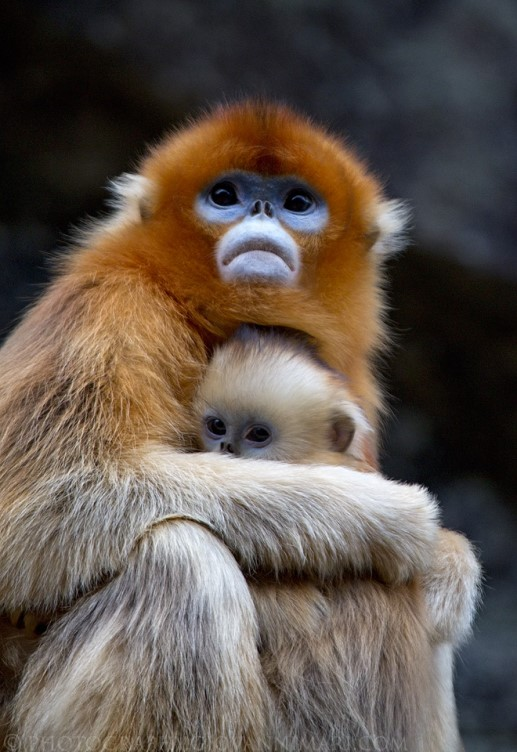GoldenSnub-Nosed: (3, 103, 465, 752), (173, 331, 413, 526)
